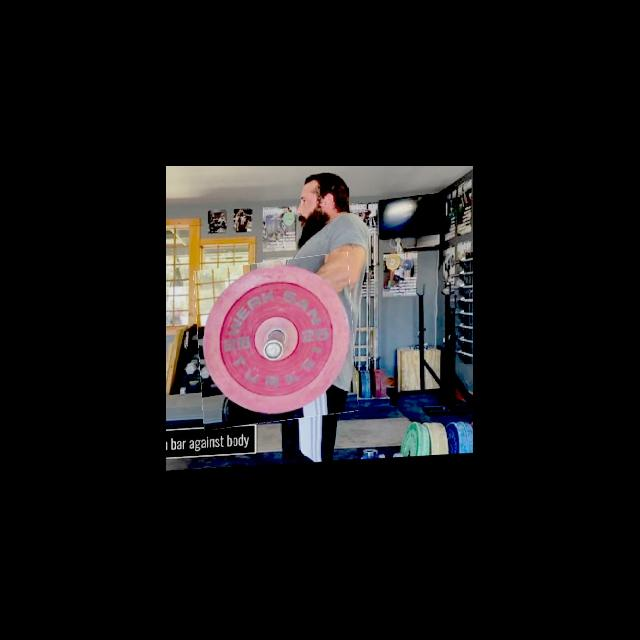barbell: (196, 256, 356, 428)
